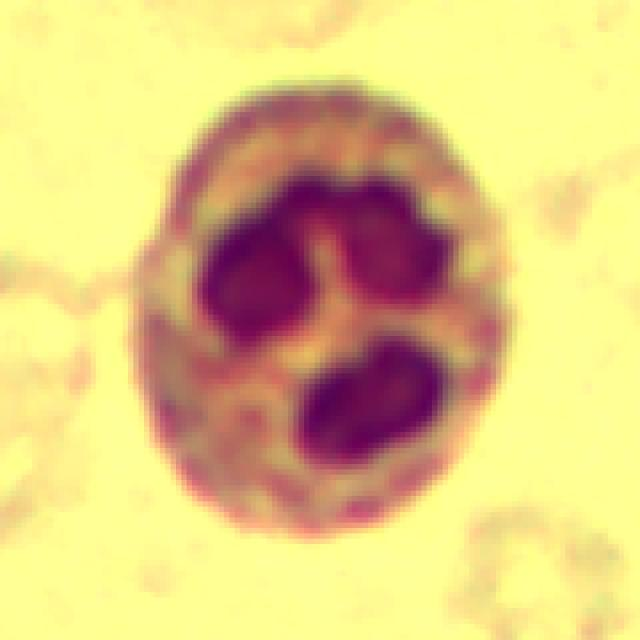WBC: (96, 75, 523, 549)
